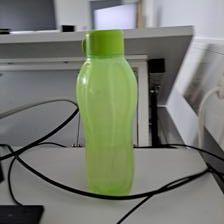bottle: (73, 27, 143, 199)
